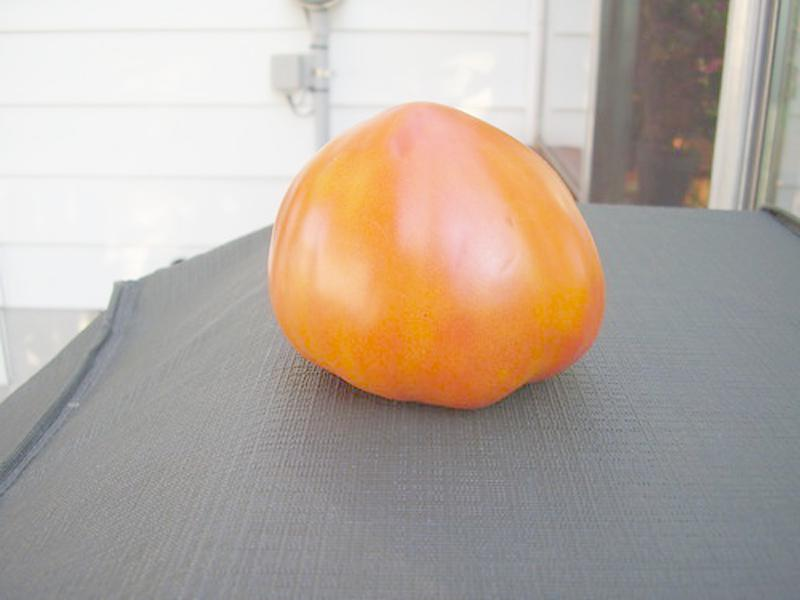Tomato: (268, 99, 605, 405)
